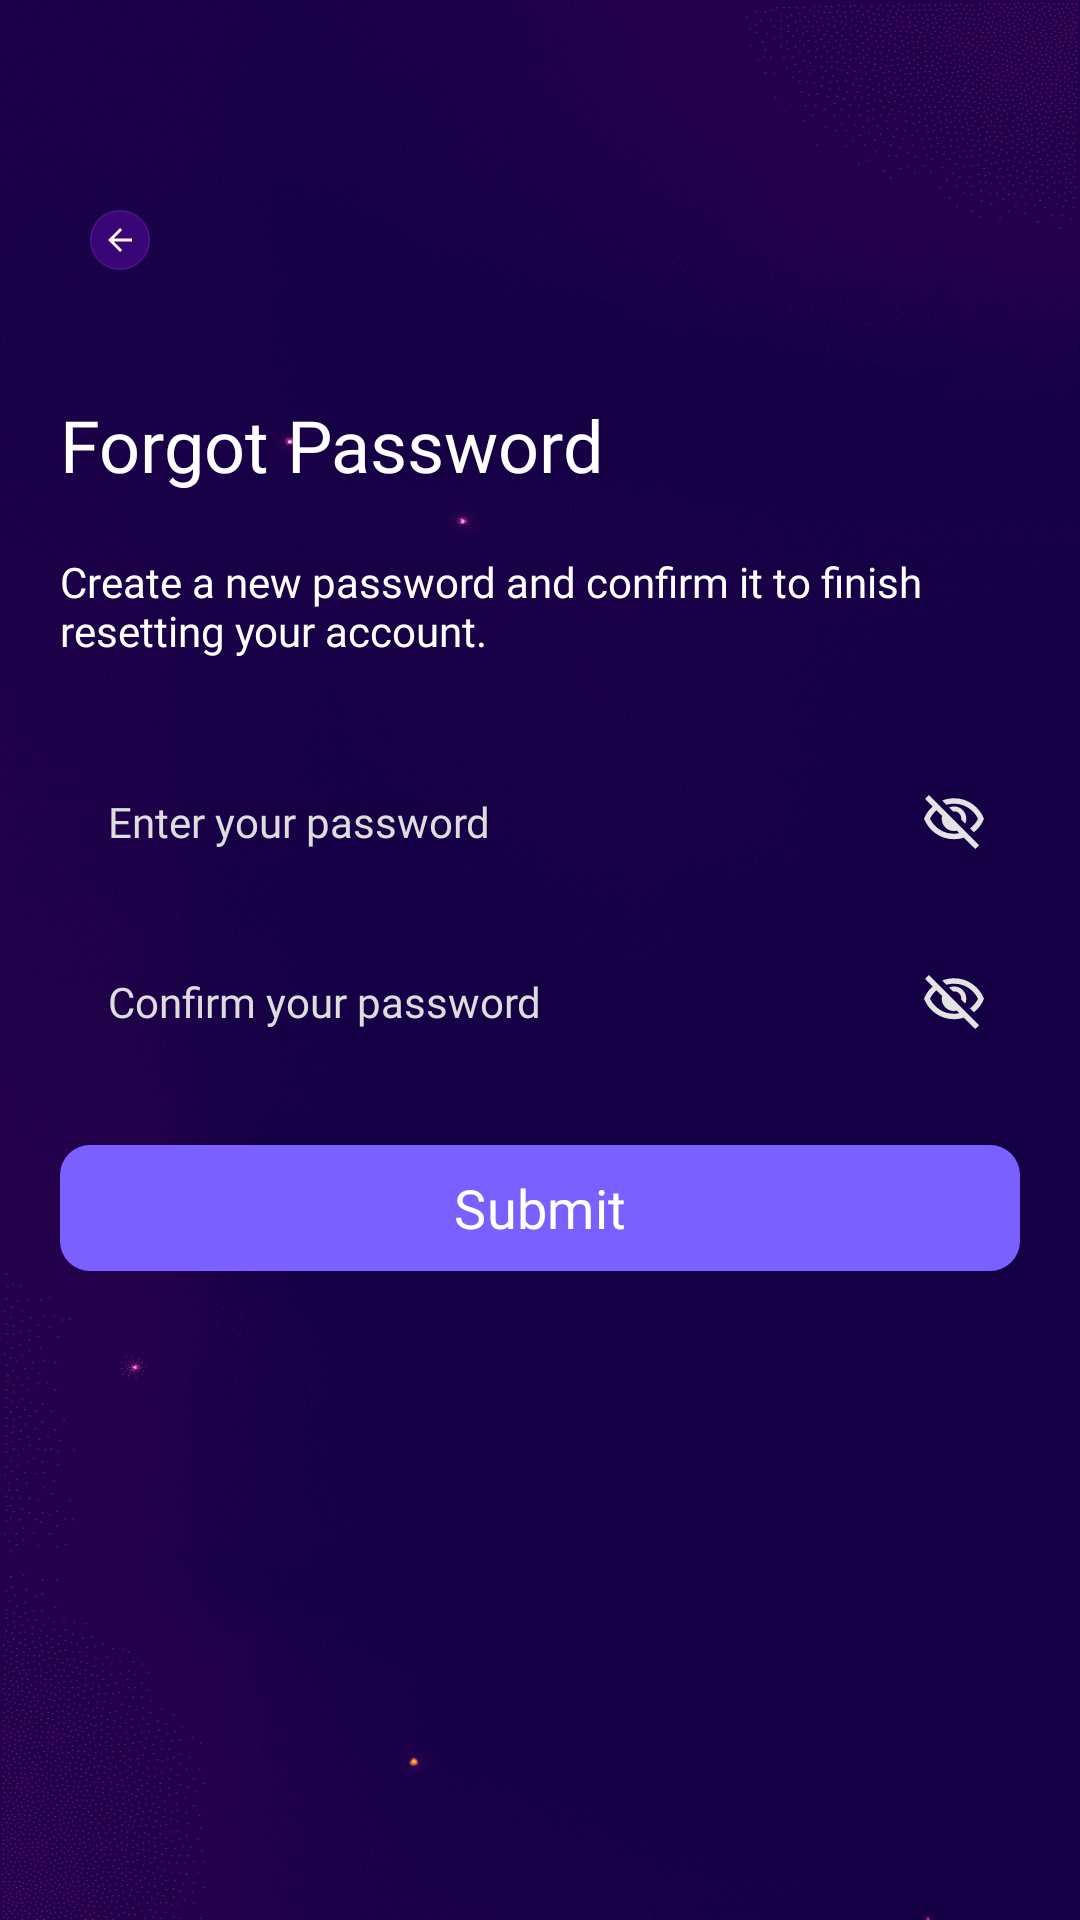

Named icons in this screenshot (1080px x 1920px) and their bounding boxes, (x1, y1, x2, y2):
back: (90, 210, 150, 270)
